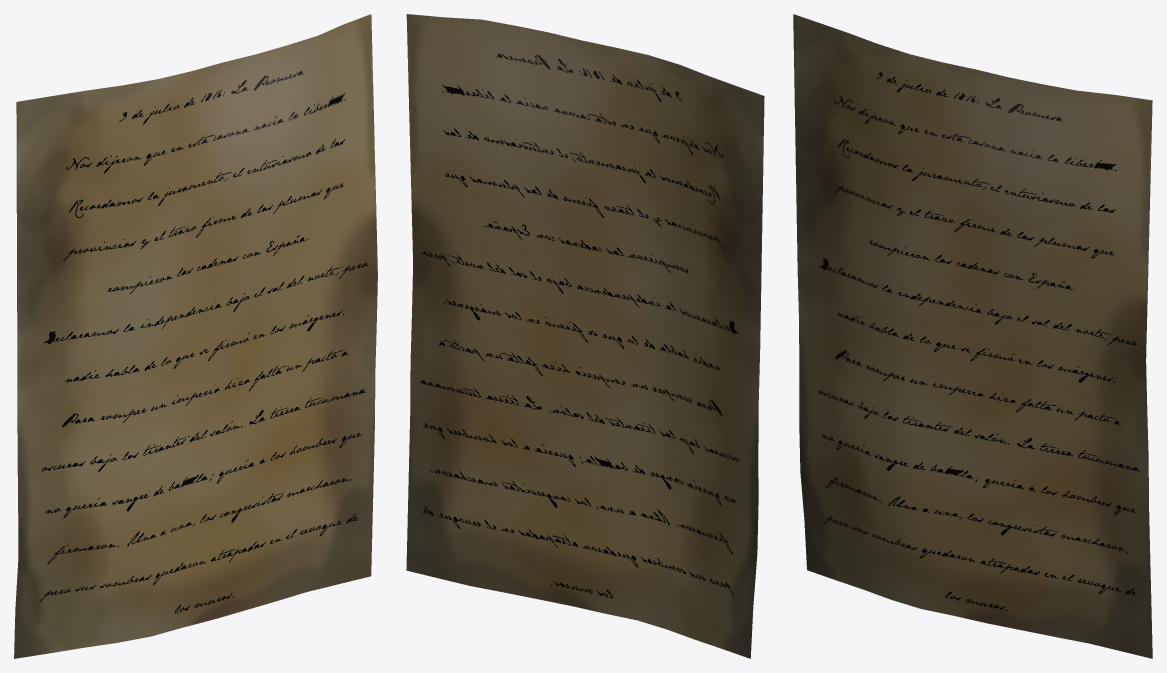
File: papel.glb
3 views of the same model, side by side, from view 1: azimuth 30°, elevation 25°; view 2: azimuth 150°, elevation 25°; view 3: azimuth 330°, elevation 25° (orthographic).
Visible parts, largest first — view 1: Plano; view 2: Plano; view 3: Plano.
Boxes of the visible parts, x1=… form: Plano: x1=14, y1=14, x2=377, y2=658; Plano: x1=406, y1=14, x2=764, y2=658; Plano: x1=793, y1=14, x2=1152, y2=658.
Size of the model in its own units: 0.1372 by 0.2067 by 0.0138.
Materials: 1 (1 with a texture image).
